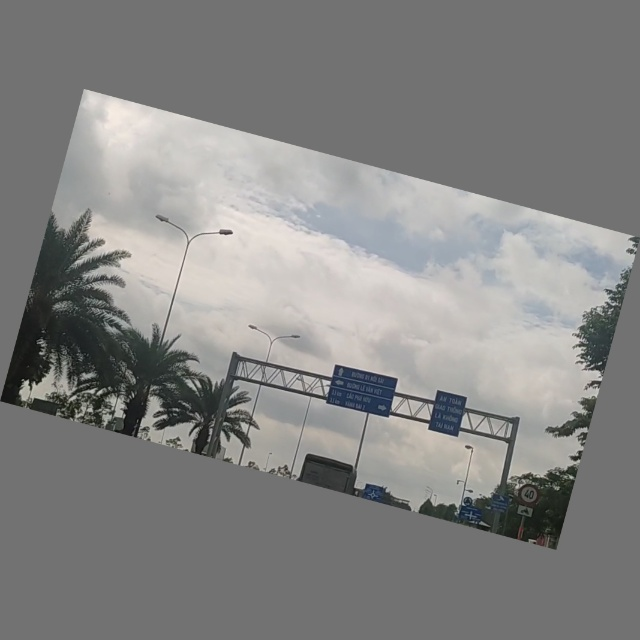P.127*40: (514, 482, 542, 510)
S.505a*Xe may: (514, 503, 537, 520)
